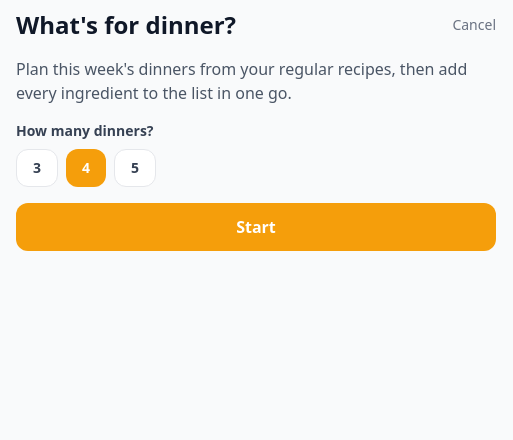
Scenario: suggestions › adds another recipe from the pool
Step 1. Click the button "Start" → (256, 227), box left=16, top=203, right=496, bottom=251
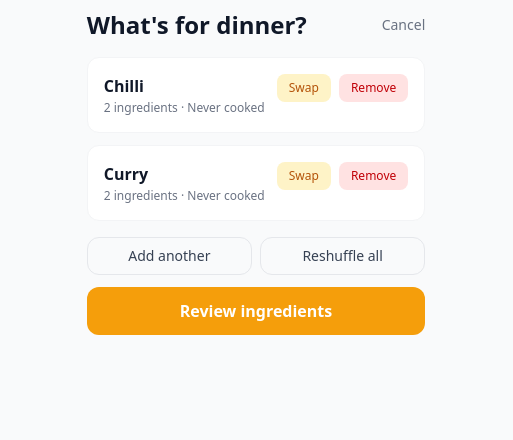
expect the heading "Chilli" is shown: met, box left=104, top=75, right=144, bottom=97
Step 2. Click the button "Add another" → (169, 256), box left=87, top=237, right=252, bottom=275
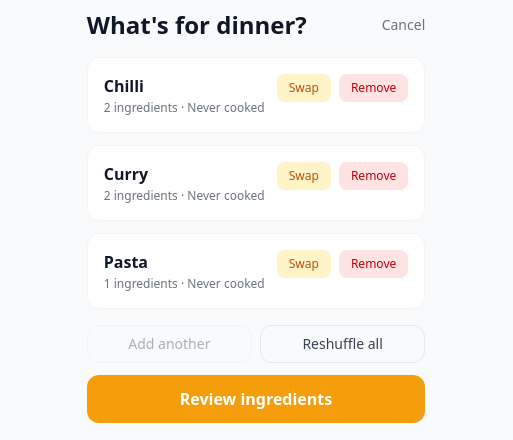
expect the heading "Pasta" is shown: met, box left=104, top=251, right=148, bottom=273
